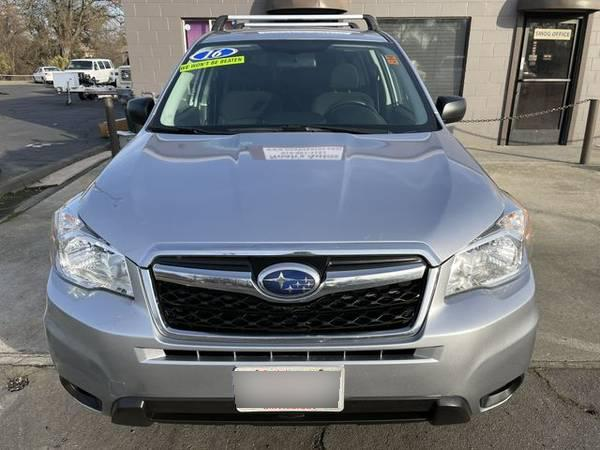Front_Bumper: (50, 249, 542, 412)
Front_Windshield: (151, 36, 441, 127)
Grille: (145, 247, 440, 333)
Hood: (81, 129, 504, 265)
Left_Headlight: (53, 195, 135, 302)
Left_Mirror: (440, 93, 475, 124)
Right_Headlight: (451, 191, 534, 295)
Right_Mirror: (125, 93, 154, 127)
